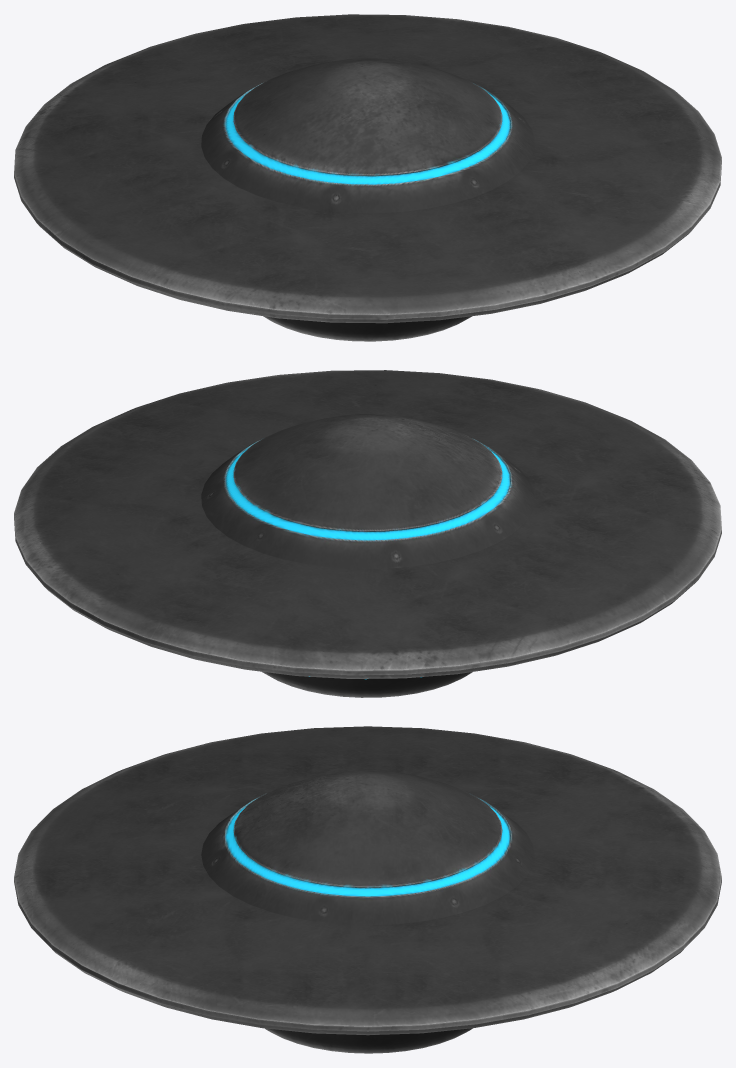
The model's file is uploads_files_3772099_UFO.fbx.
3 renders of one model, top to bottom at view 1: azimuth 30°, elevation 25°; view 2: azimuth 150°, elevation 25°; view 3: azimuth 270°, elevation 25°, orthographic.
Parts seen in each view (by area): view 1: Circle; view 2: Circle; view 3: Circle.
Boxes of the visible parts, <box> form: Circle: <box>14,14,721,341</box>; Circle: <box>14,370,721,697</box>; Circle: <box>14,726,721,1053</box>.
Size of the model in its own units: 589 by 200 by 589.
1 material, 1 textured.
